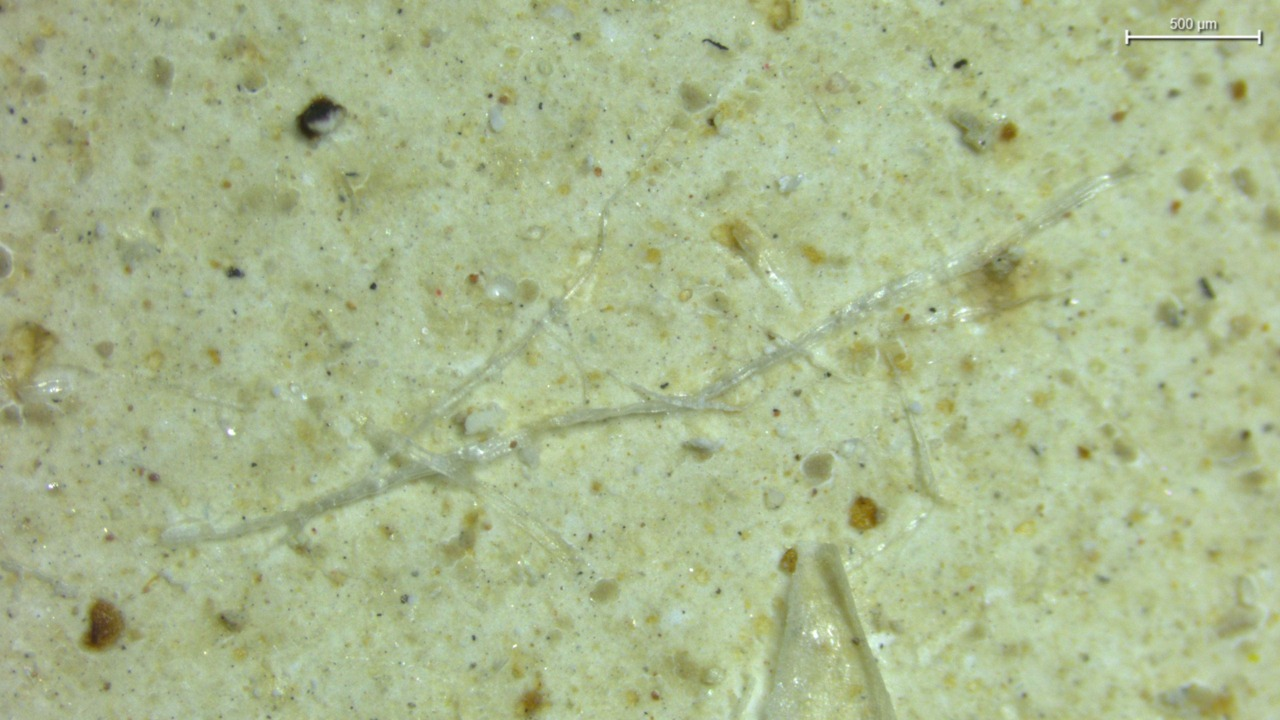microplastic_fragment: (162, 175, 1112, 543), (412, 275, 588, 432), (758, 543, 895, 720), (712, 220, 798, 308), (950, 110, 1017, 152)
